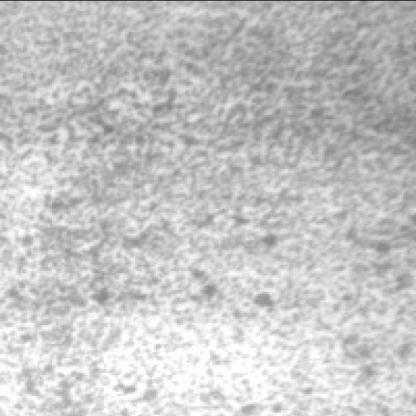pitted_surface: (4, 4, 408, 410)
